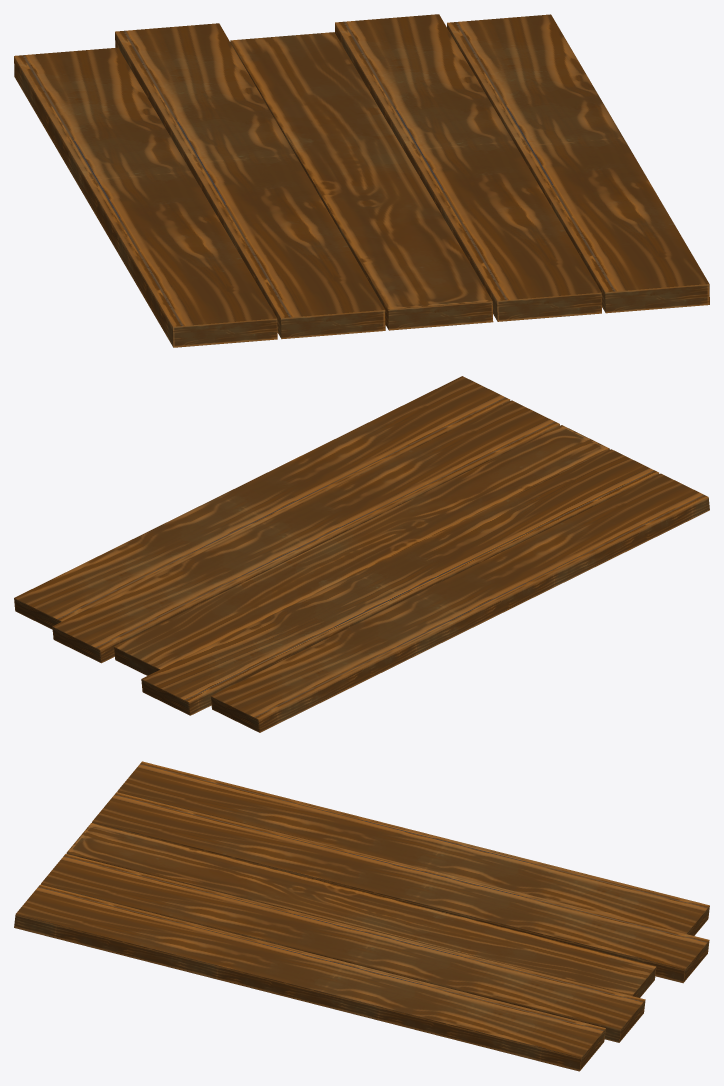
3 renders of one model, top to bottom at view 1: azimuth 30°, elevation 25°; view 2: azimuth 150°, elevation 25°; view 3: azimuth 270°, elevation 25°, orthographic. The views are drawn at different scales.
Parts seen in each view (by area): view 1: Cube.1957; view 2: Cube.1957; view 3: Cube.1957.
Part boxes in pixels (<box>): Cube.1957: <box>14,14,709,347</box>; Cube.1957: <box>14,376,709,732</box>; Cube.1957: <box>14,761,709,1071</box>.
Size of the model in its own units: 469 by 68.35 by 583.
1 material, 1 textured.
